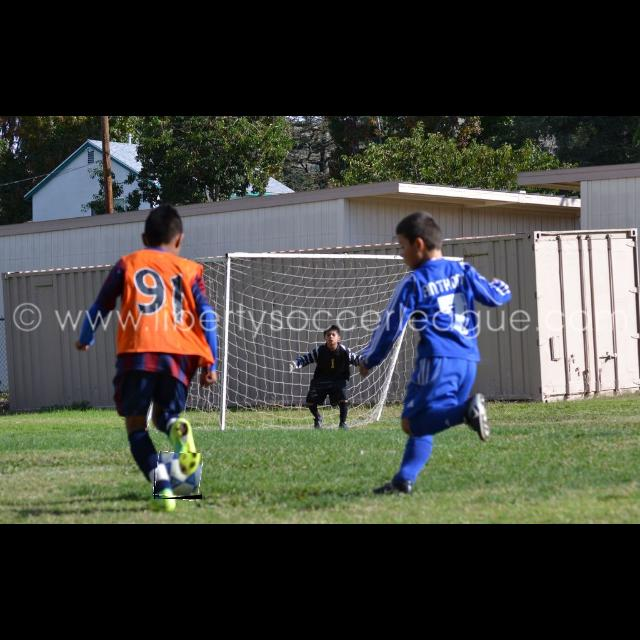Football: (154, 453, 202, 499)
